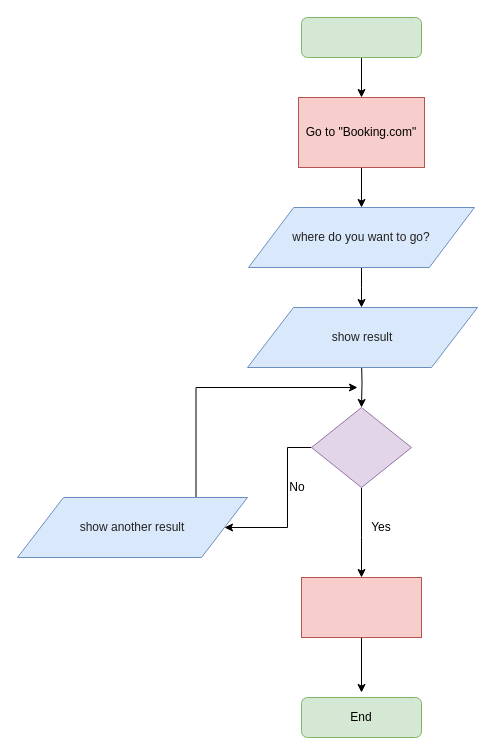
Image size: 495x755. Some labels were removed from this diagram. The shapes that lost their labels are listed below. From the top down, each one's centre as x and y in pixels, then its label:
point (361, 37): Start
point (361, 447): Does the price suit?
point (361, 607): make a reservation
